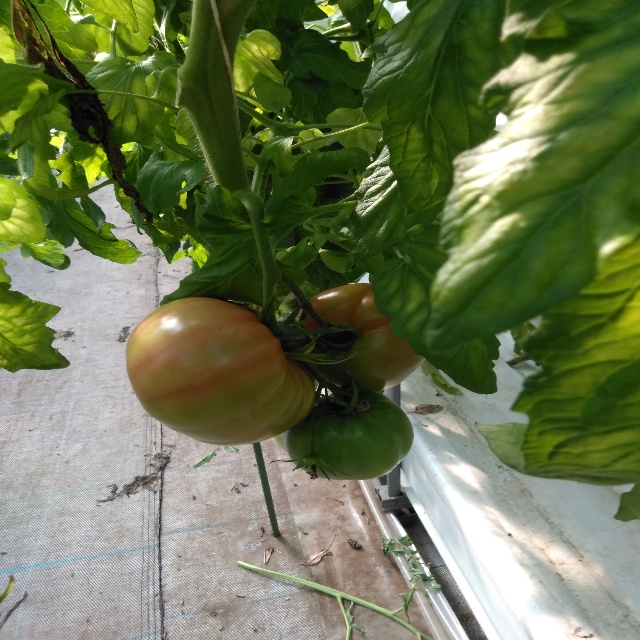b_green: (280, 390, 415, 480)
b_half_ripened: (126, 296, 315, 445), (297, 283, 427, 391)
